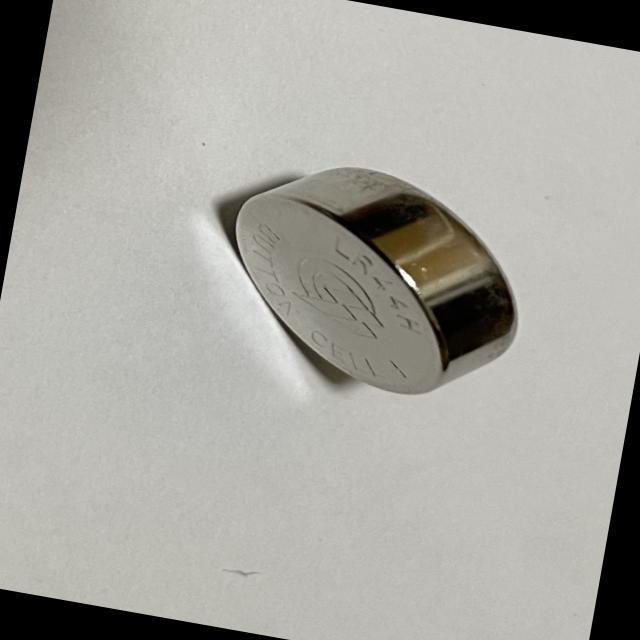COIN: (208, 146, 540, 416)
